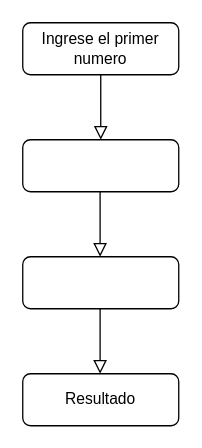
Image size: 202x448. Some labels were removed from this diagram. The shapes that lost their labels are listed below. From the top down, each one's box as (x1, y1, x2, y2) in pixels, then its label:
(21, 138, 179, 192): Ingrese el segundo numero
(21, 255, 179, 309): Num1+num2
